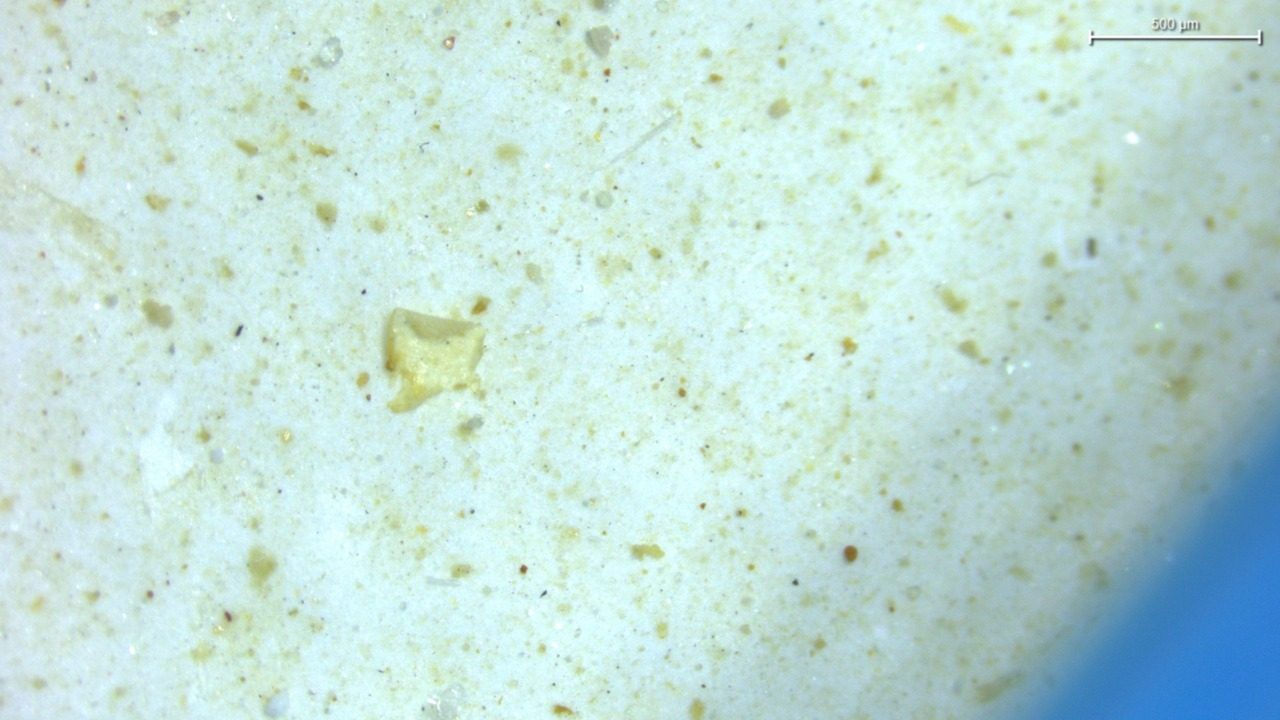microplastic_fragment: (386, 308, 485, 412)
